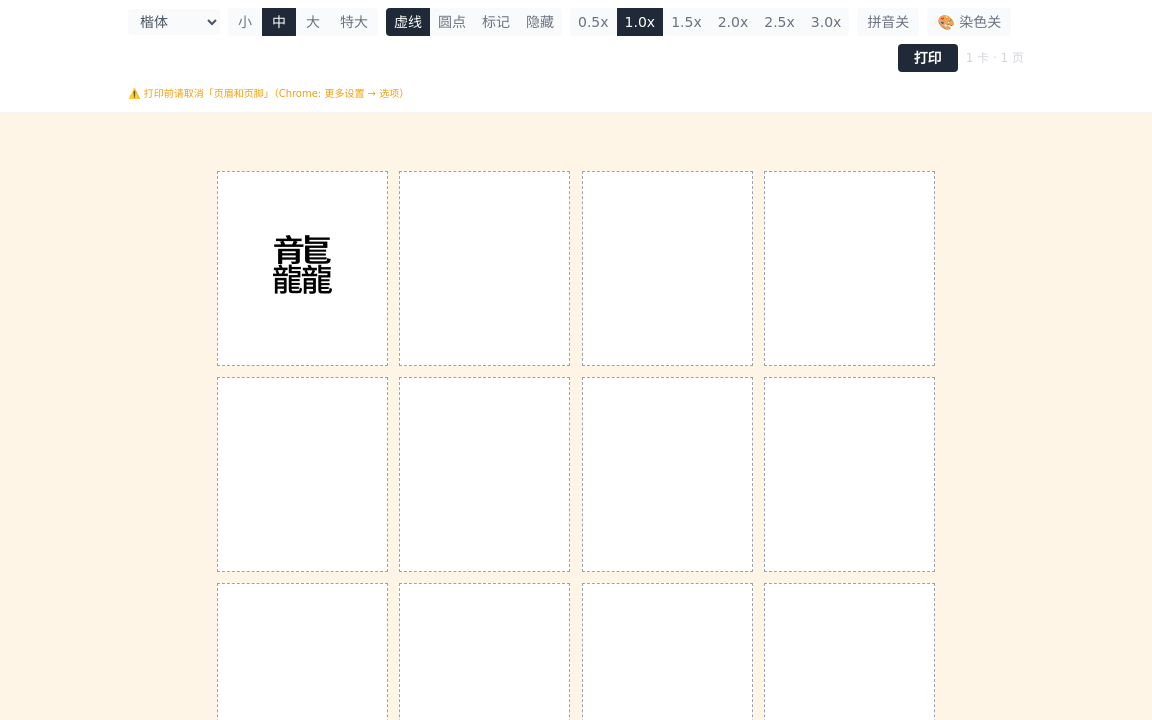
it: PrintCards › 切换份数系数 2.0x 后卡片翻倍
Expected: the button "打印" is shown, x1=898 y1=44 x2=958 y2=72
Click the button "2.0x": (733,22) x1=710 y1=8 x2=756 y2=36
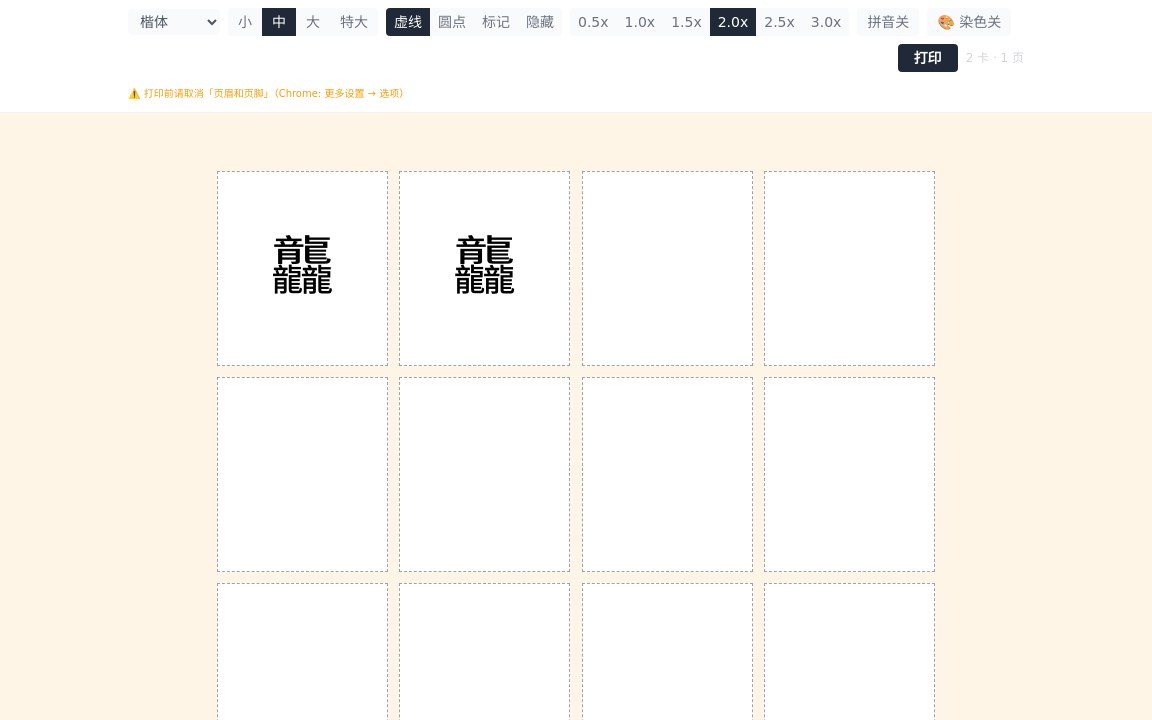
Now the text "龘" is shown 2 times, box x1=270 y1=230 x2=334 y2=306; x1=453 y1=230 x2=517 y2=306
